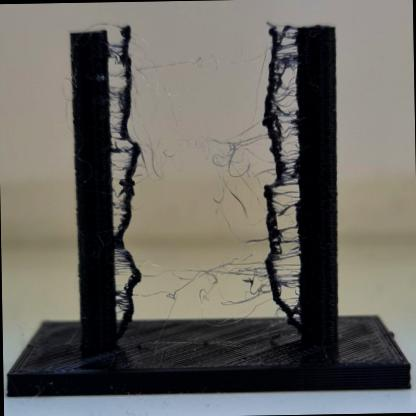fail: (260, 24, 303, 316), (111, 24, 145, 320)
